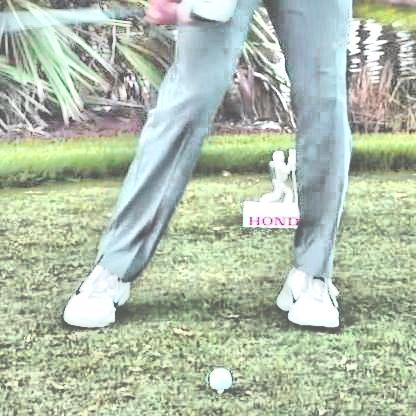golfball: (207, 365, 230, 389)
